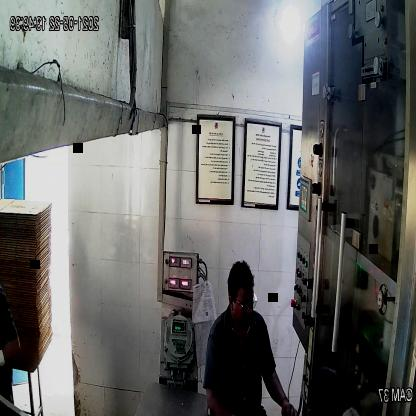goggles: (229, 292, 259, 315)
